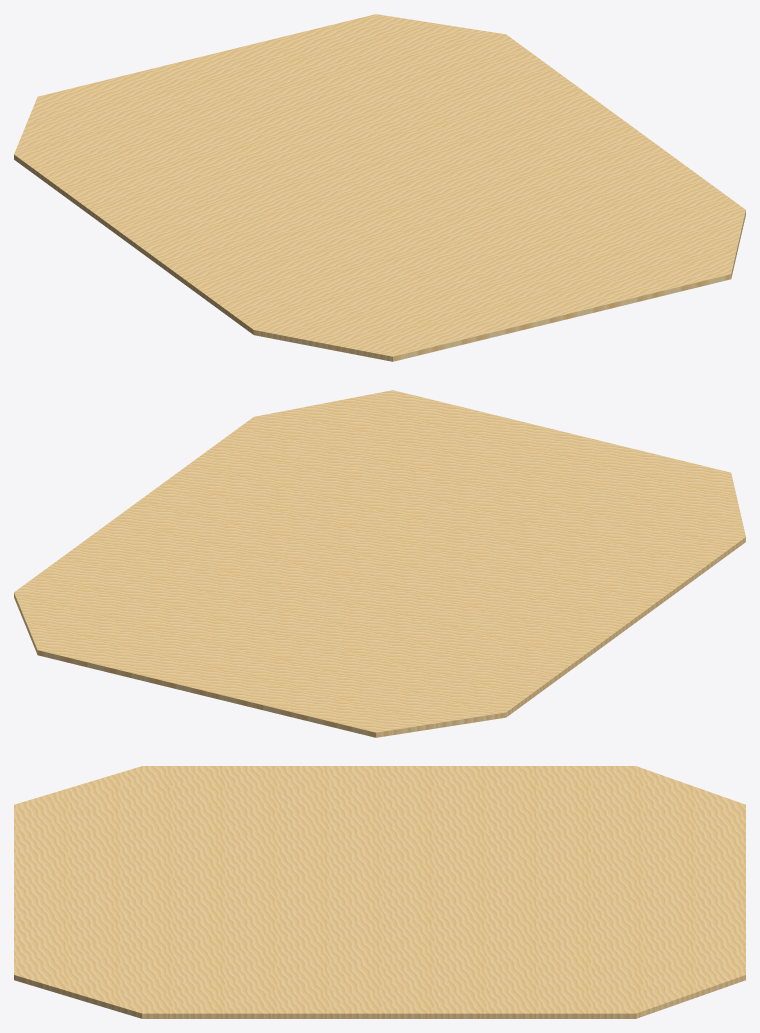
Rendered from seabed-20-Dmnr34pb.glb.
3 views of the same model, one above another, from view 1: azimuth 30°, elevation 25°; view 2: azimuth 150°, elevation 25°; view 3: azimuth 270°, elevation 25° (orthographic). The views are drawn at different scales.
Visible parts, largest first — view 1: SW_SandShelf; view 2: SW_SandShelf; view 3: SW_SandShelf.
Boxes of the visible parts, x1,y1,x2,y2 form: SW_SandShelf: (14, 14, 745, 361); SW_SandShelf: (14, 390, 745, 737); SW_SandShelf: (14, 766, 745, 1018).
Size of what is drawn, in the model's own units: 32 by 0.32 by 40.
1 material, 1 textured.
